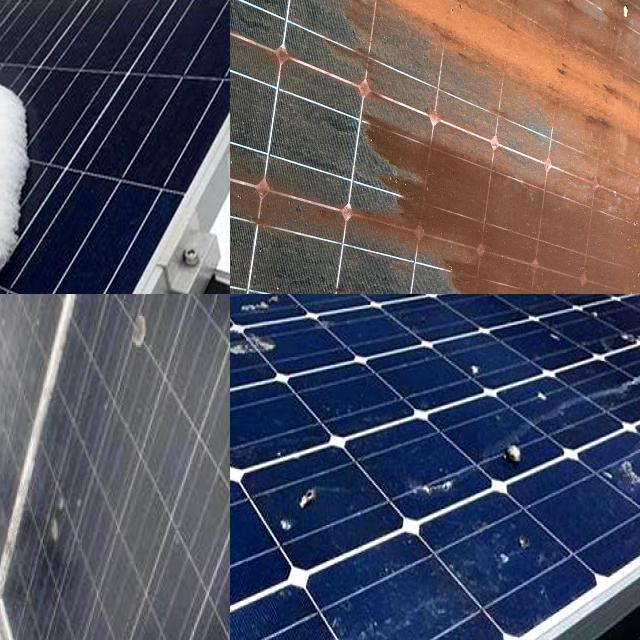bird: (270, 480, 332, 531), (230, 328, 287, 369), (490, 534, 543, 574), (393, 470, 459, 502), (497, 430, 527, 487), (611, 445, 640, 499), (255, 617, 320, 640), (230, 294, 284, 316), (526, 380, 557, 418), (615, 312, 640, 358), (467, 348, 487, 390)
dust: (369, 185, 578, 294), (454, 59, 640, 153), (421, 0, 640, 63), (230, 138, 368, 222), (263, 0, 391, 66), (590, 149, 640, 294), (97, 294, 165, 400), (230, 32, 337, 78), (144, 294, 230, 340), (45, 483, 92, 559), (0, 397, 27, 516), (0, 294, 31, 382), (4, 294, 100, 322)
panel: (0, 161, 59, 292), (0, 33, 52, 143), (0, 114, 43, 195), (0, 5, 40, 91), (0, 231, 35, 294), (0, 26, 26, 94), (0, 0, 42, 23)
